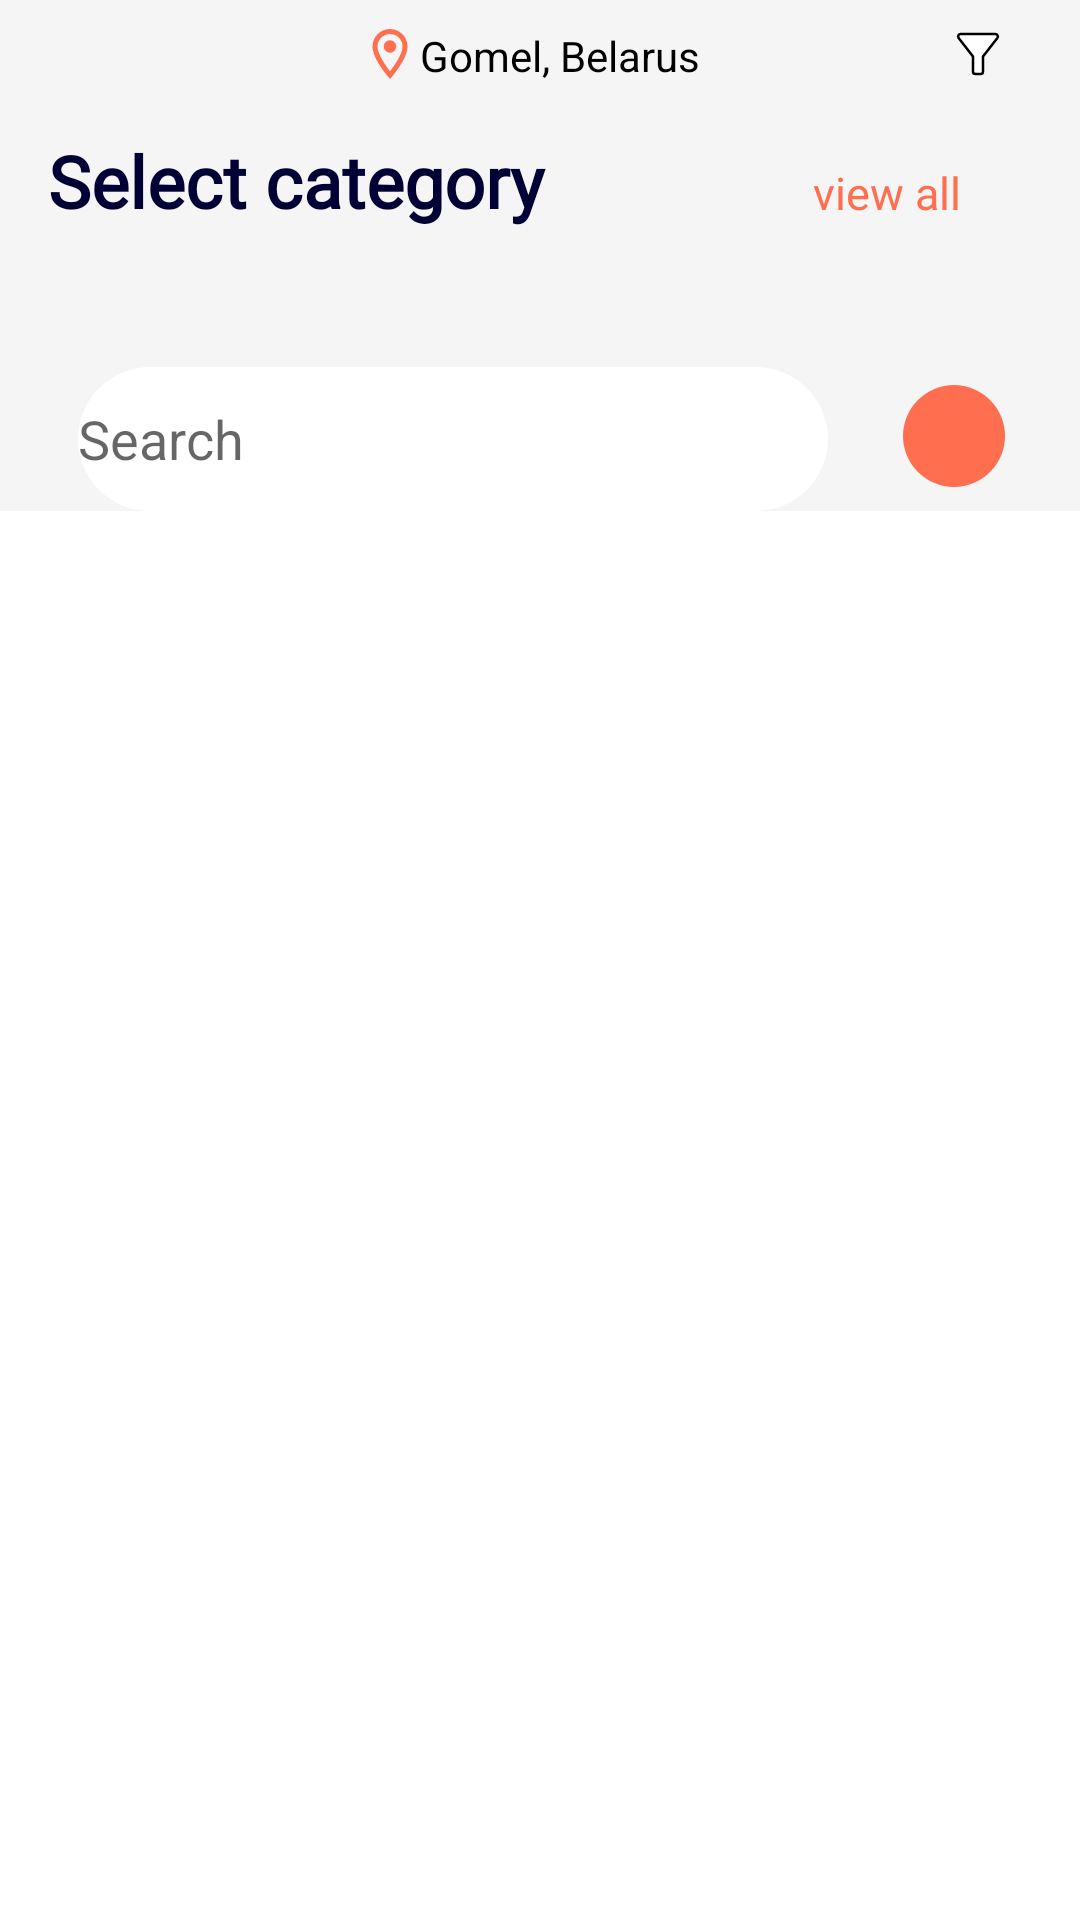

Named icons in this screenshot (1080px x 1920px) and their bounding boxes, (x1, y1, x2, y2):
filter: (956, 32, 999, 76)
